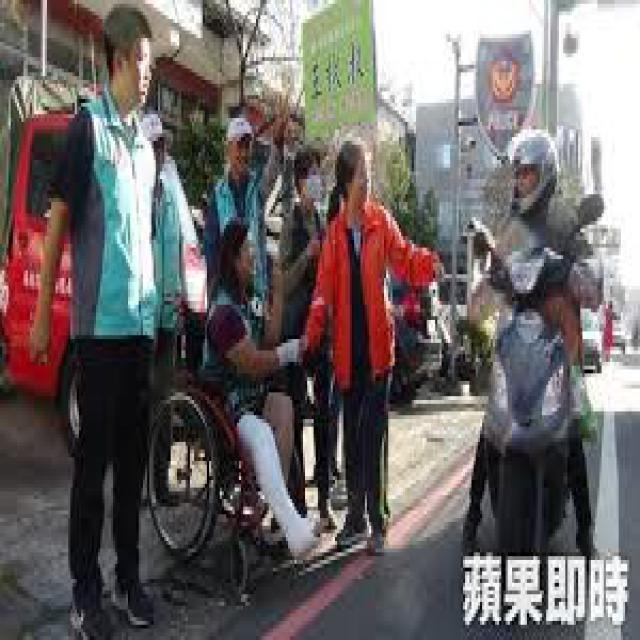wheelchairs: (145, 316, 335, 579)
